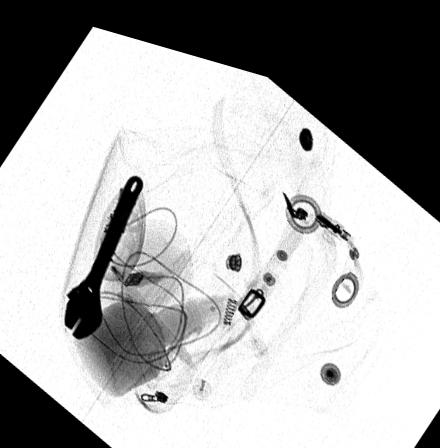Wrench: (64, 164, 146, 337)
